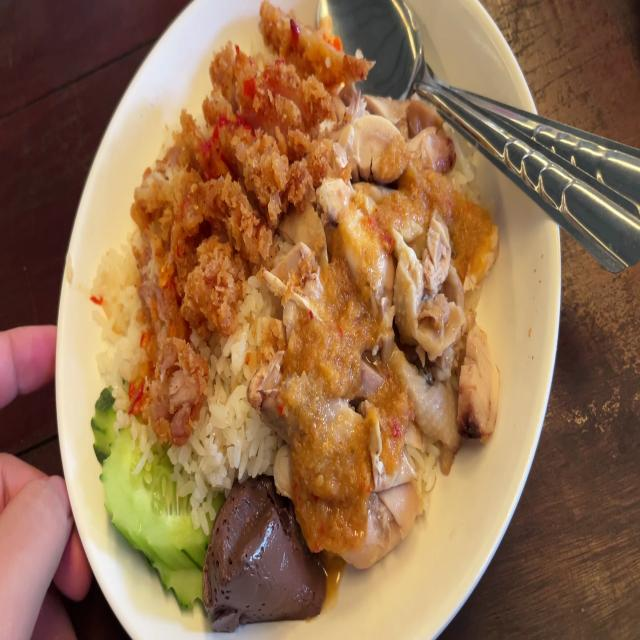boiled_chicken: (293, 105, 480, 544)
boiled_chicken_blood_jelly: (200, 472, 328, 626)
chicken_rice: (93, 0, 505, 626)
cucumber: (103, 381, 208, 605)
fried_chicken: (128, 9, 356, 430)
